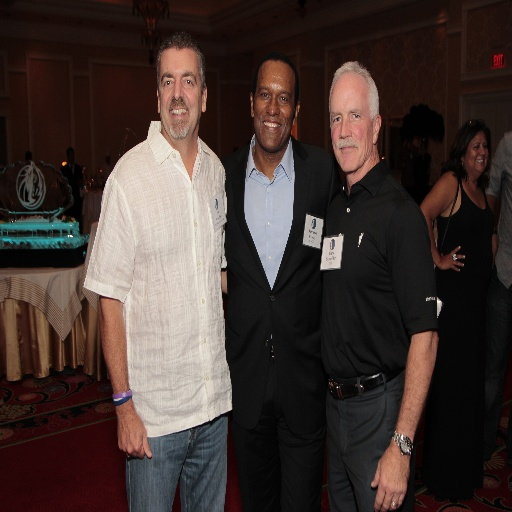hand: (369, 427, 423, 511), (115, 408, 153, 461), (440, 243, 466, 270)
